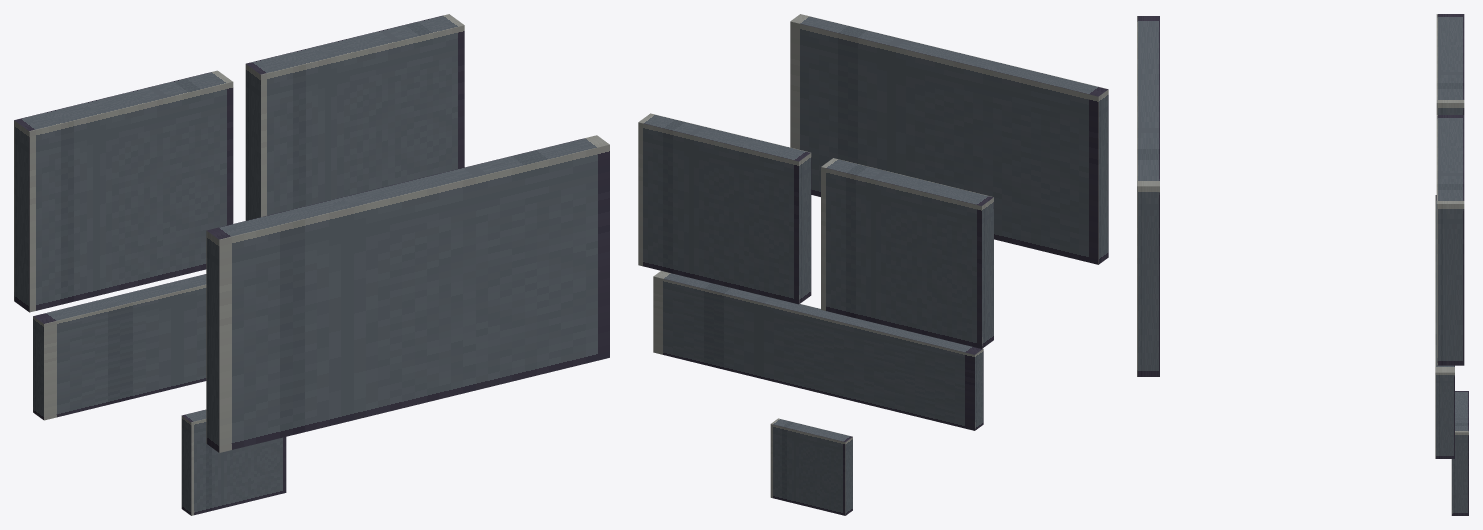
Rendered from workpiece_xuantie_chestplate_tempered.obj.
3 views of the same model, side by side, from view 1: azimuth 30°, elevation 25°; view 2: azimuth 150°, elevation 25°; view 3: azimuth 270°, elevation 25° (orthographic). The views are drawn at different scales.
Visible parts, largest first — view 1: geometry; view 2: geometry; view 3: geometry.
Boxes of the visible parts, x1=… form: geometry: x1=14, y1=14, x2=609, y2=515; geometry: x1=638, y1=14, x2=1108, y2=515; geometry: x1=1137, y1=14, x2=1468, y2=515.
Size of the model in its own units: 0.4875 by 0.4719 by 0.36.
